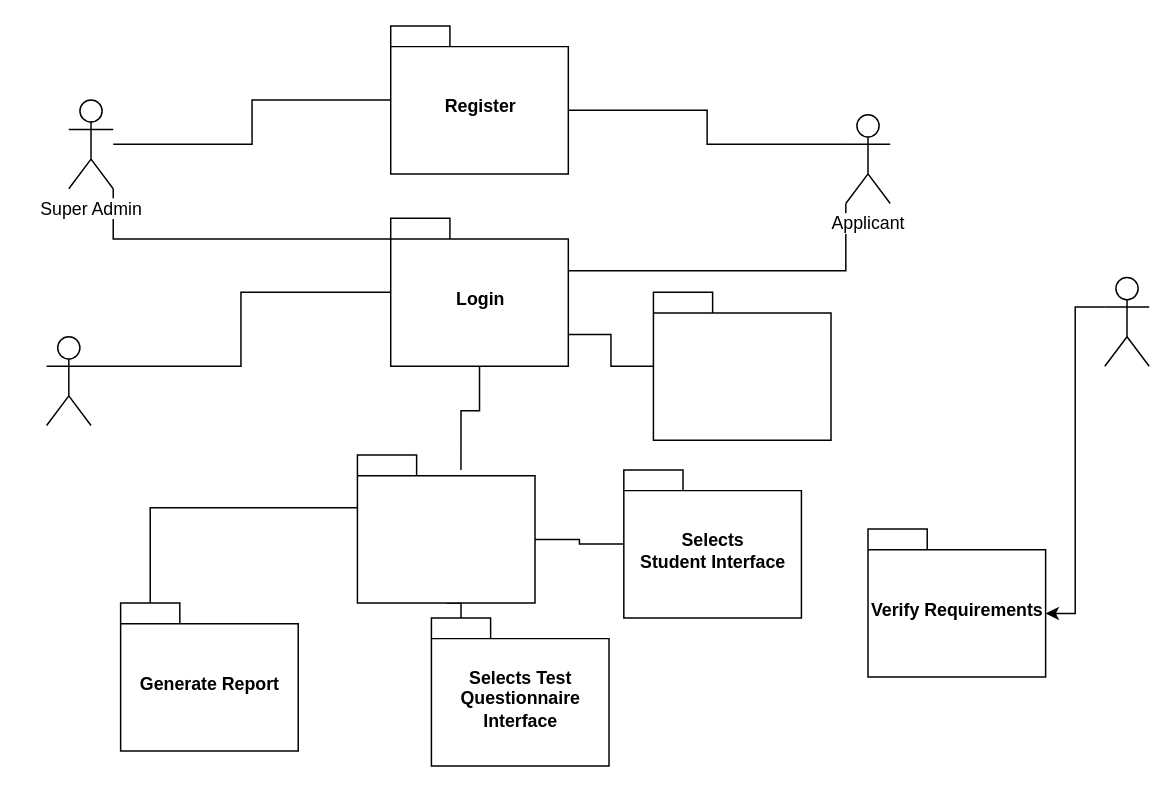
Some shapes in this 1175 by 792 pixel diagram are drawn without their labels. Each missing label, with the box of its shape:
Actor: (1103, 276, 1149, 366)
Shows Online Examination Interface: (356, 454, 535, 603)
Test Admin: (45, 335, 91, 426)
Verification: (652, 291, 831, 440)
